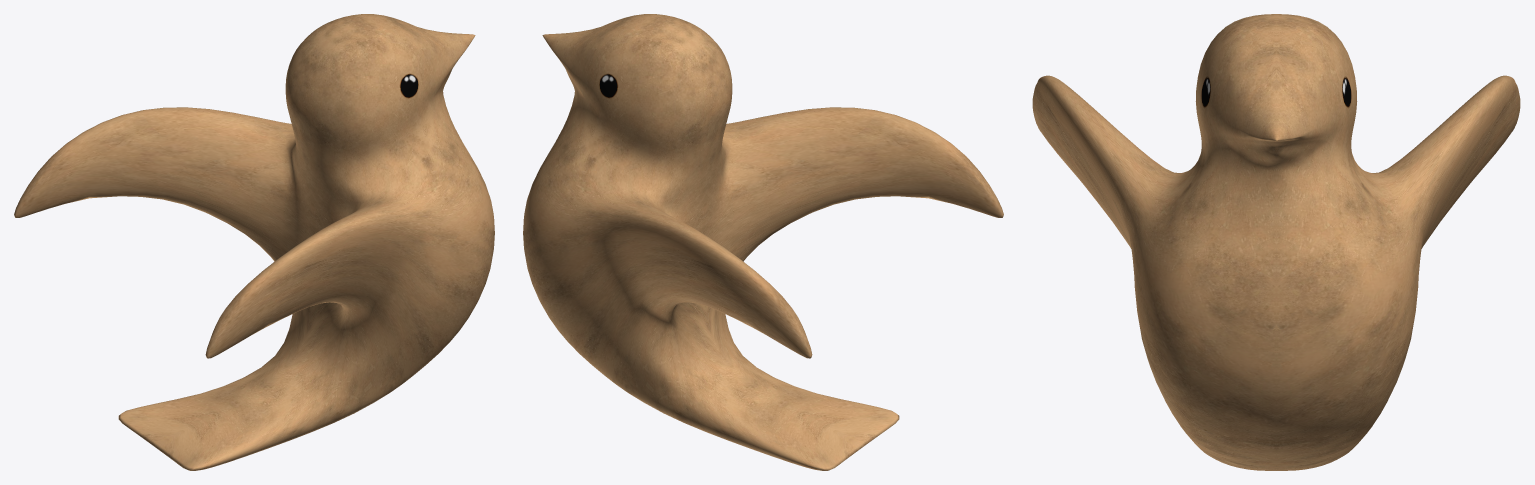
File: bevybird_gold.glb
3 renders of one model, left to right at view 1: azimuth 30°, elevation 25°; view 2: azimuth 150°, elevation 25°; view 3: azimuth 270°, elevation 25°, orthographic. The views are drawn at different scales.
Parts seen in each view (by area): view 1: Plane; view 2: Plane; view 3: Plane.
Boxes of the visible parts, box(x1,y1,x2,y2) form: Plane: box(14, 14, 494, 470); Plane: box(523, 14, 1003, 470); Plane: box(1032, 14, 1520, 470).
Bounding box in the file's own units: 2.73 × 2.73 × 2.56.
1 material, 1 textured.
